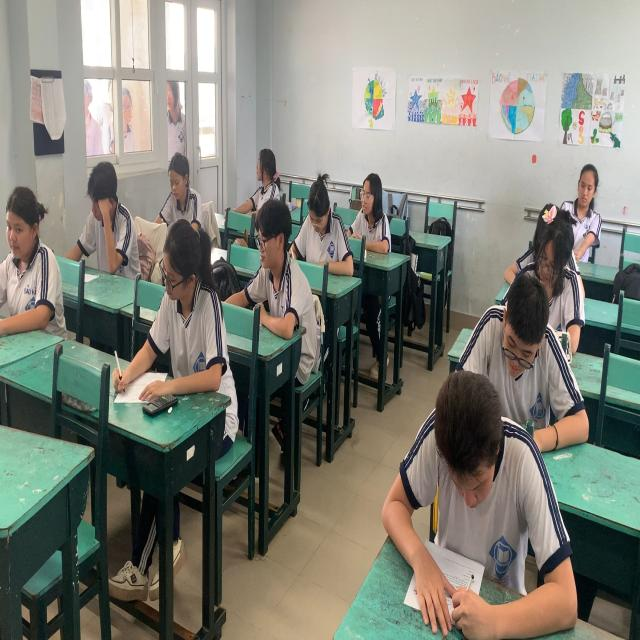cheating: (231, 136, 293, 208)
not_cheating: (379, 371, 581, 630), (472, 278, 587, 450), (148, 212, 231, 402), (507, 205, 585, 358), (0, 178, 60, 337), (245, 189, 307, 323), (70, 154, 134, 275), (296, 168, 354, 281), (344, 168, 396, 268), (156, 150, 210, 236), (566, 164, 604, 268)
